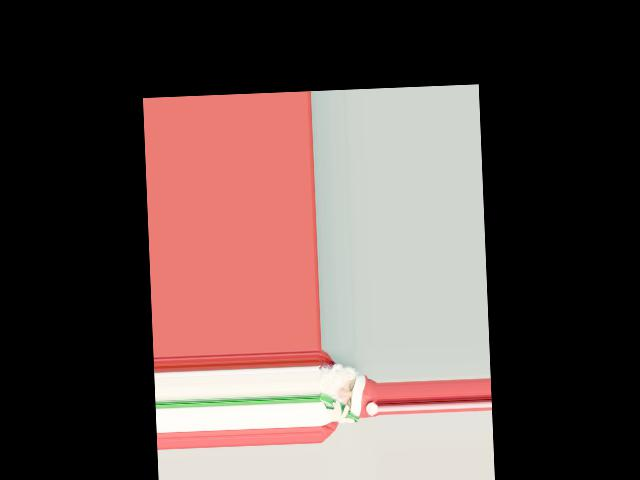beer: (318, 392, 358, 424)
